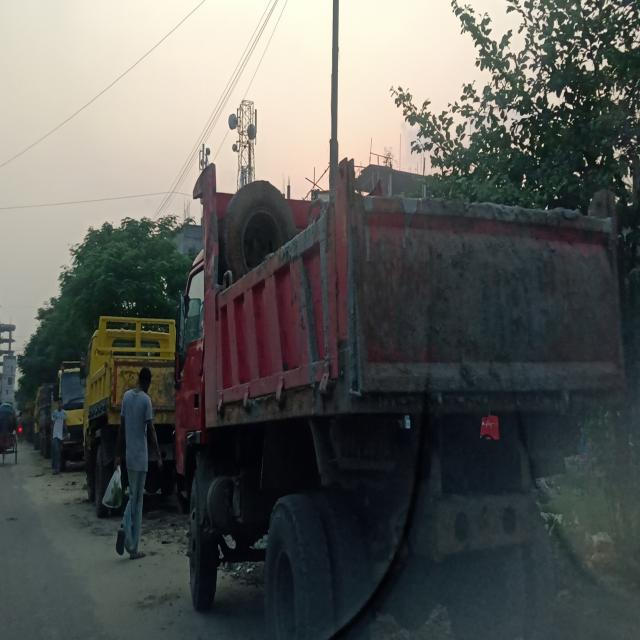truck: (167, 117, 627, 627), (77, 302, 182, 510), (41, 358, 91, 471)
